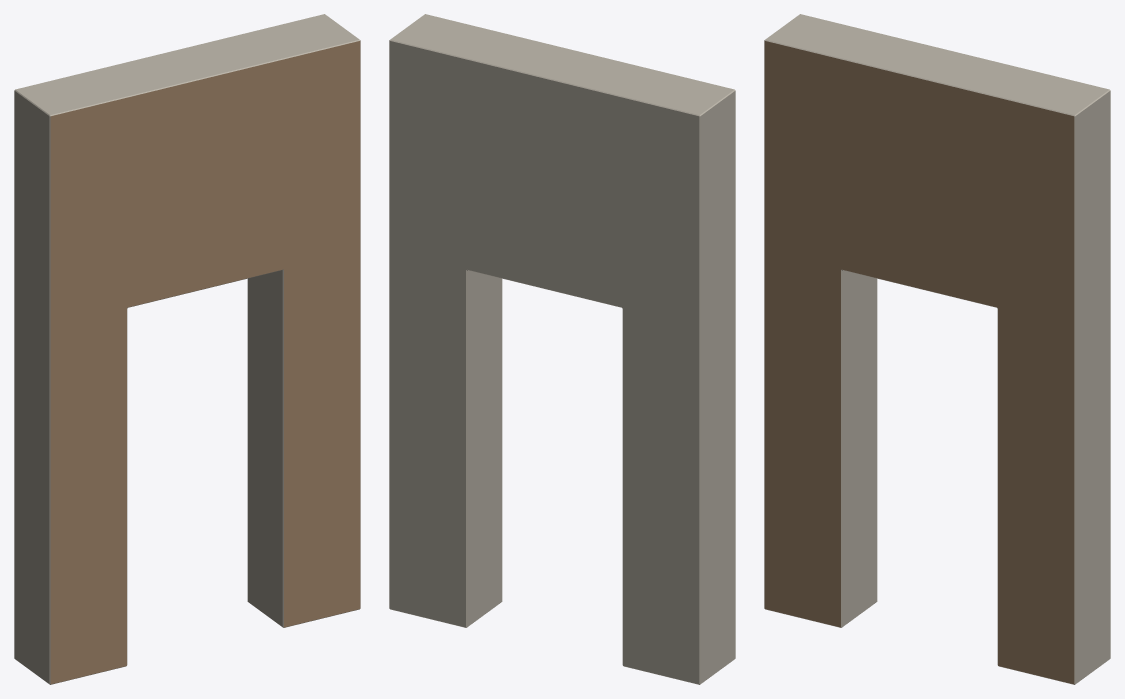
The model's file is arch_wall_ext_door_w200_h350.glb.
3 renders of one model, left to right at view 1: azimuth 30°, elevation 25°; view 2: azimuth 150°, elevation 25°; view 3: azimuth 330°, elevation 25°, orthographic.
Parts seen in each view (by area): view 1: Wall; view 2: Wall; view 3: Wall.
Part boxes in pixels (x1,y1,x2,y2): Wall: [14, 14, 360, 684]; Wall: [389, 14, 735, 684]; Wall: [764, 14, 1110, 684].
Size of what is drawn, in the model's own units: 2 by 3.5 by 0.4.
